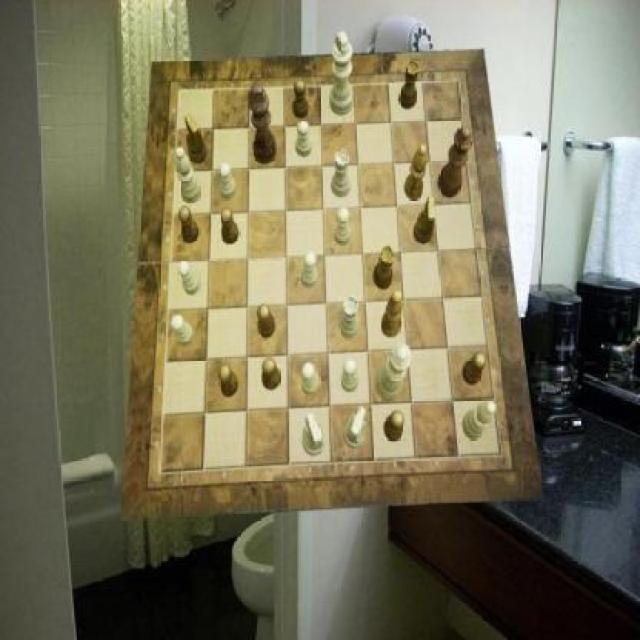bishop: (404, 144, 428, 200), (382, 291, 404, 338)
black-bishop: (248, 84, 277, 164)
black-king: (185, 114, 208, 164), (414, 197, 436, 245)
black-knight: (463, 352, 486, 386), (180, 206, 200, 244), (384, 411, 406, 443), (218, 363, 238, 398), (220, 208, 239, 244), (257, 305, 276, 339), (292, 80, 308, 120), (262, 358, 280, 391)
black-pawn: (438, 126, 474, 199)
black-queen: (398, 60, 419, 109), (372, 246, 395, 290)
black-rook: (176, 148, 202, 204), (463, 400, 496, 440)
white-bishop: (331, 31, 354, 116)
white-king: (343, 406, 366, 449), (303, 414, 326, 456)
white-knight: (178, 260, 202, 295), (171, 314, 194, 346), (219, 163, 236, 201), (296, 120, 312, 158), (302, 251, 318, 288), (336, 208, 352, 245), (302, 362, 319, 396), (342, 359, 359, 393)
white-pawn: (376, 343, 412, 401)
white-queen: (331, 151, 351, 198), (340, 295, 360, 338)
